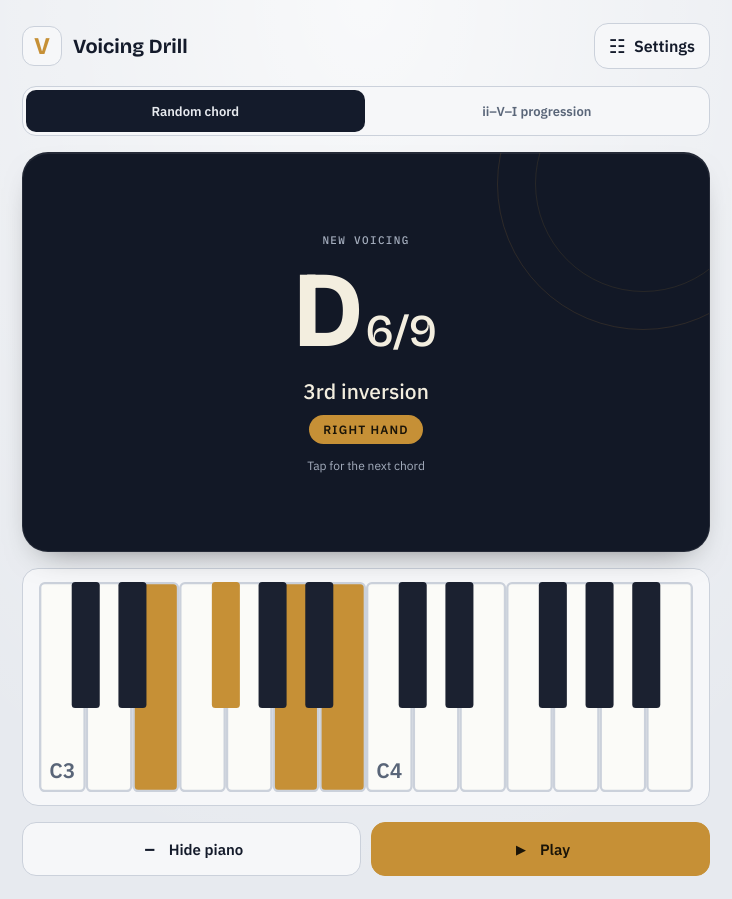
Test: PracticeScreen › always shows the piano in progression mode
The image size is (732, 899).
Click the button "− Hide piano" at (192, 849), box [22,822,361,876]
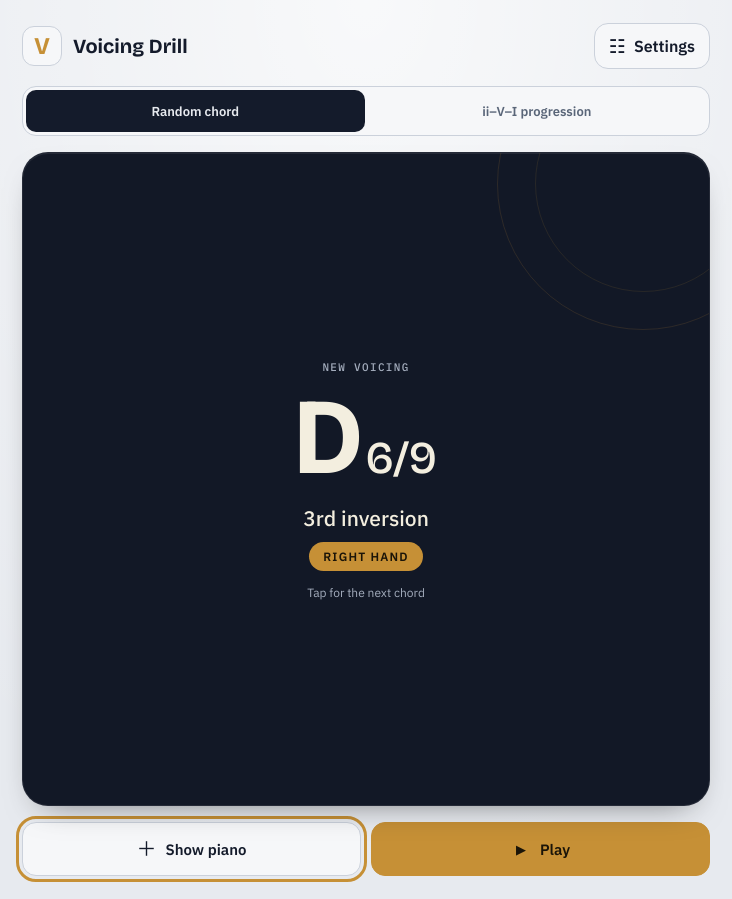
Click the button "ii–V–I progression" at (537, 111), box [368,90,706,132]
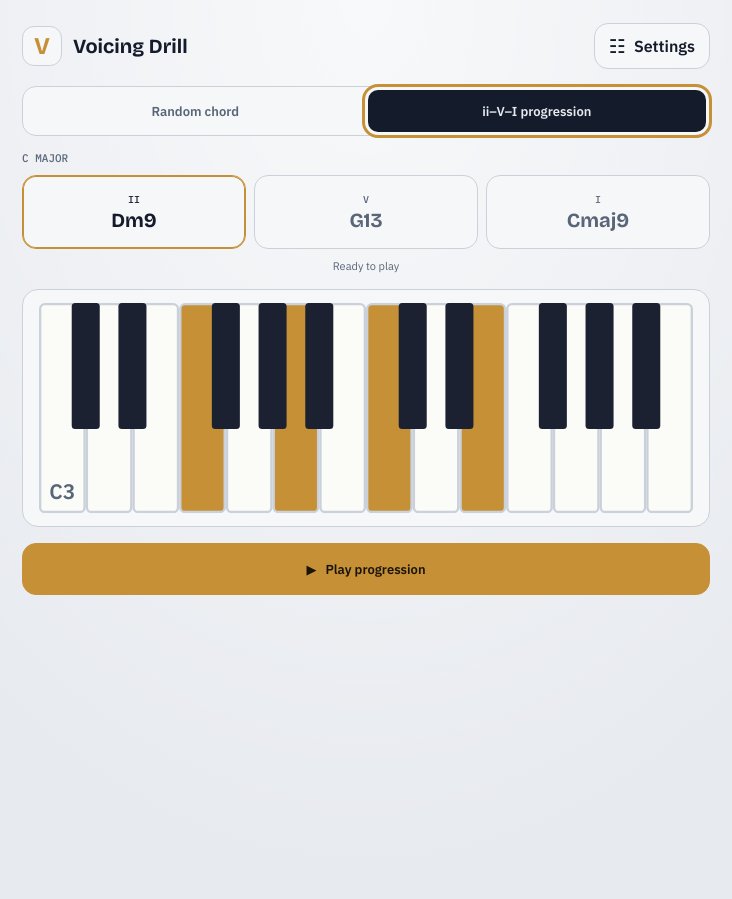
Expected: the button "piano" is gone
Expected: the element named "Voicing keyboard" is shown, [22,289,710,527]
